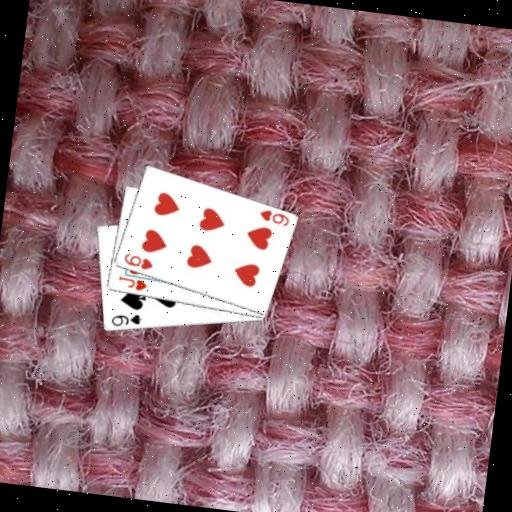6H: (256, 206, 292, 229), (120, 250, 156, 272)
9S: (108, 308, 144, 331)
JH: (115, 274, 149, 293)
